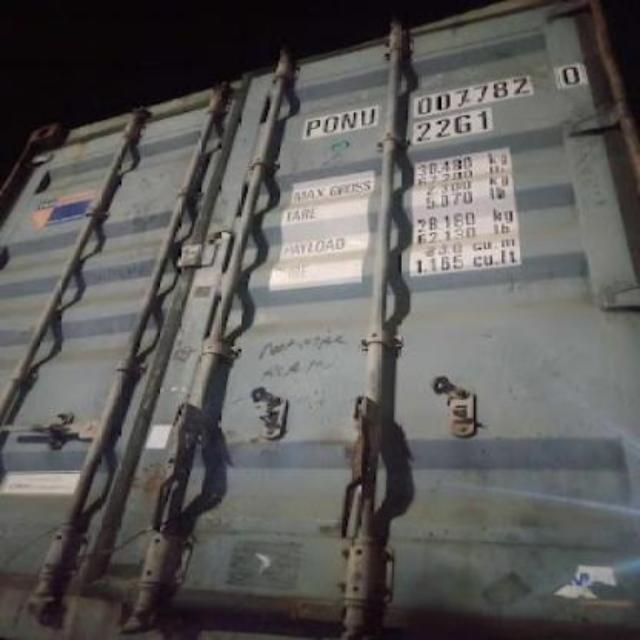0: (556, 60, 590, 90), (434, 91, 456, 112), (322, 114, 340, 134), (416, 94, 432, 112)
2: (511, 78, 532, 99)
7: (471, 84, 492, 106), (454, 88, 470, 108)
8: (492, 81, 512, 99)
N: (342, 110, 360, 132)
P: (306, 118, 320, 138)
U: (358, 108, 378, 128)
